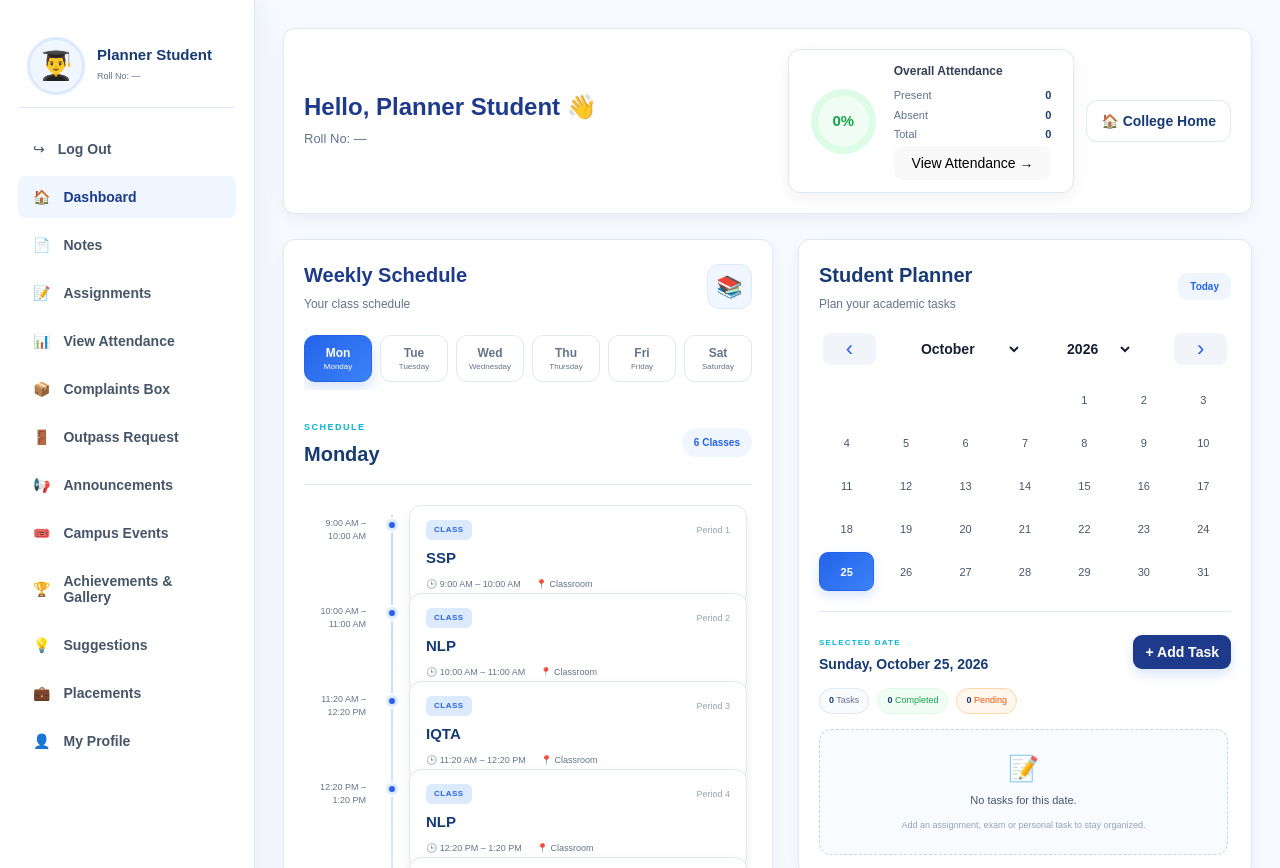
Test: student planner workflow › creates, completes, and deletes tasks using the student task service
Expected: the text "No tasks for this date." is shown, [970,794,1077,806]
Click the button "+ Add Task" at (1182, 652), box [1134,635,1231,669]
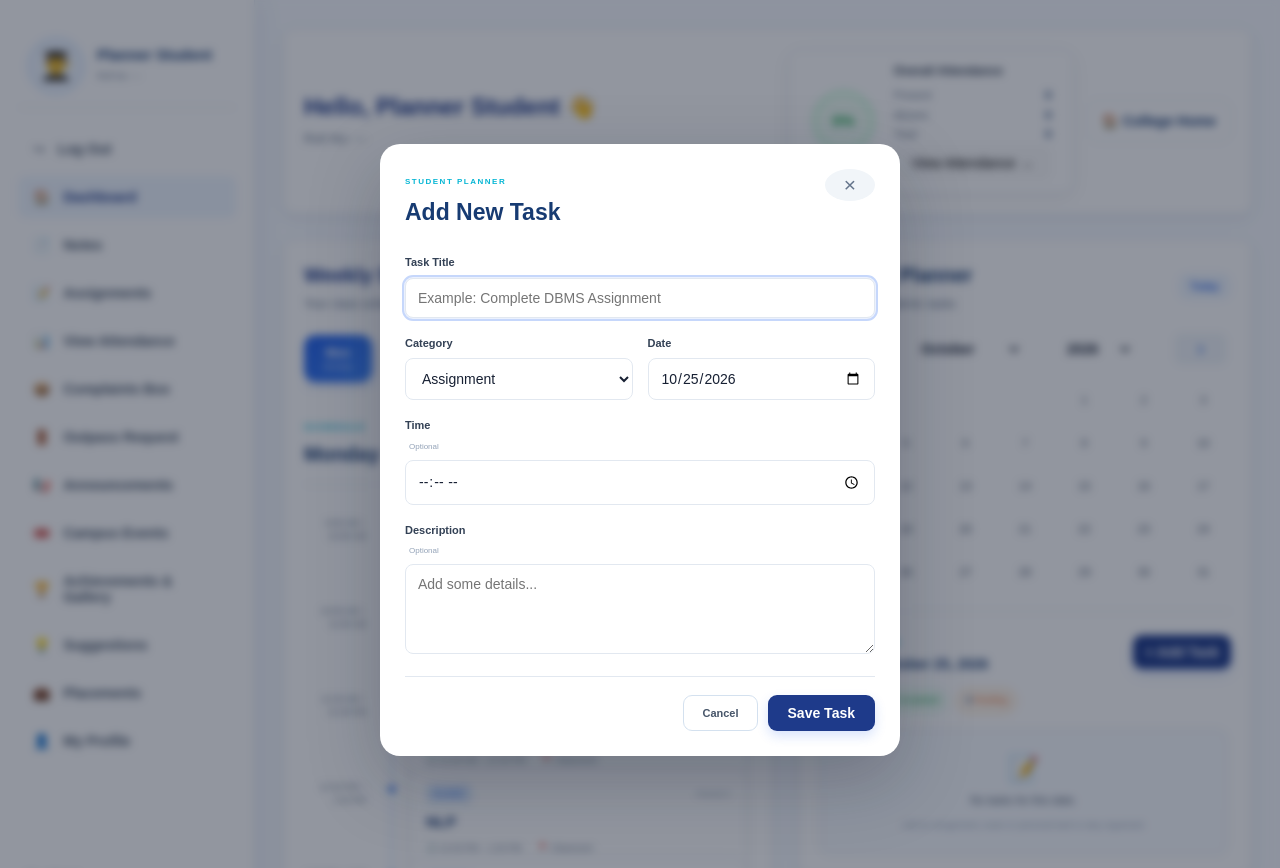
Type "Prepare database assignment" into the field labelled "Task Title" at (640, 298), box [405,278,875,318]
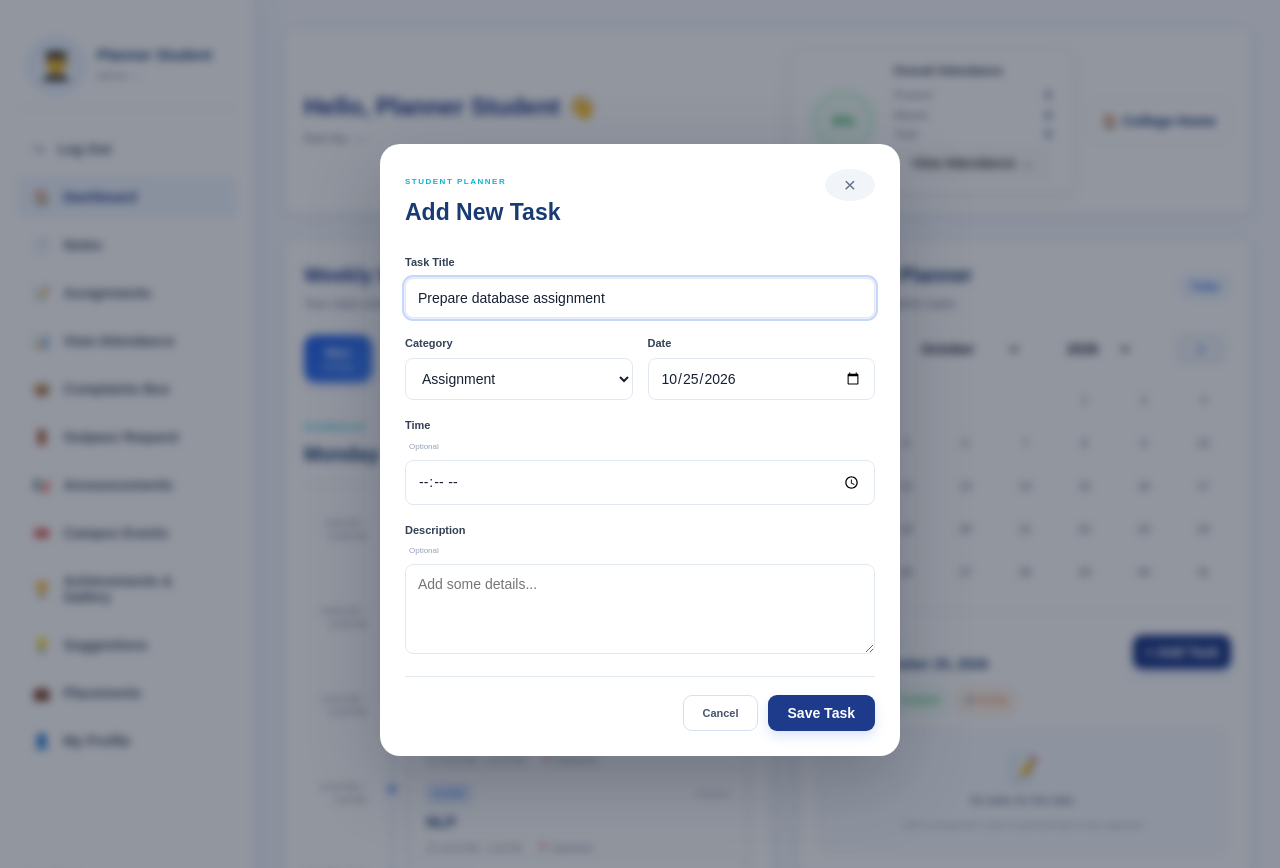
Click the button "Save Task" at (821, 713), box [768,695,875,731]
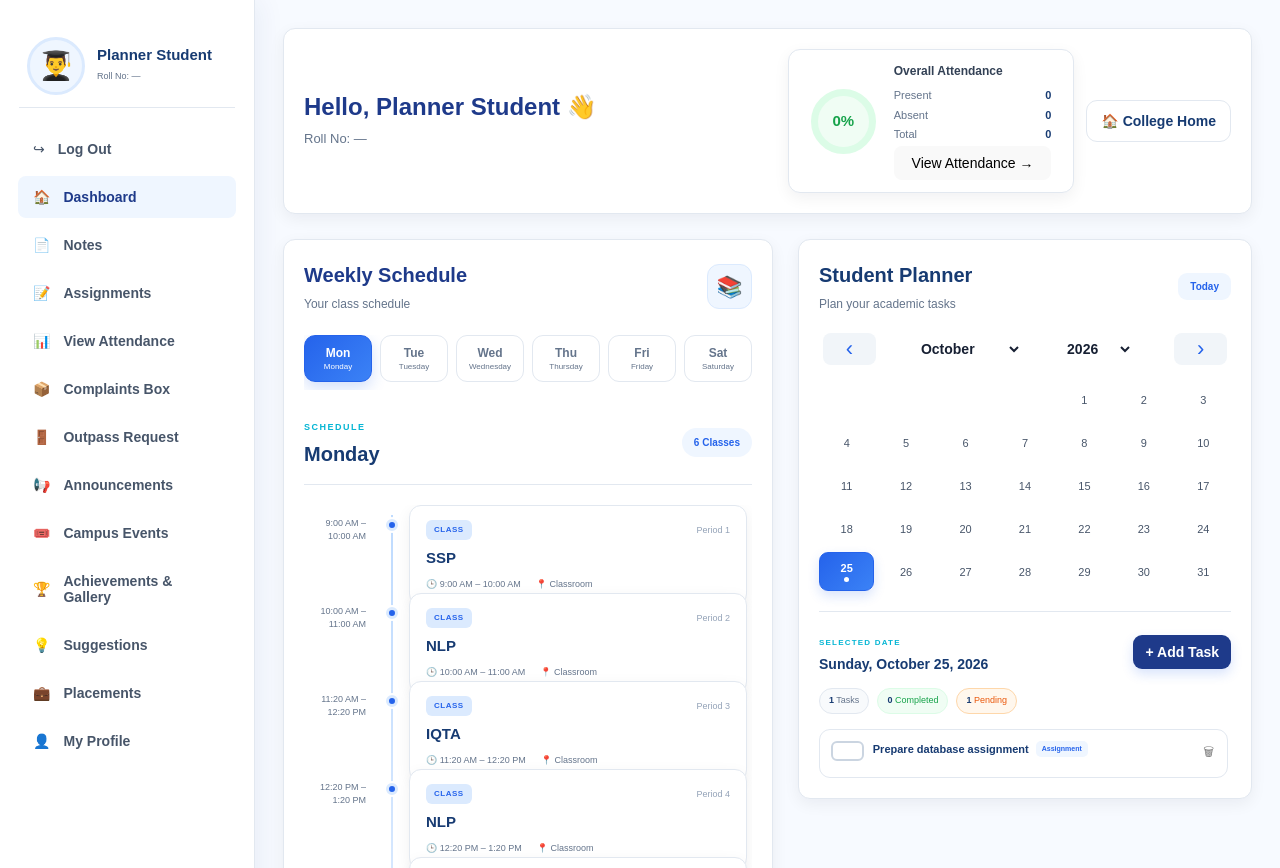
Expected: the heading "Prepare database assignment" is shown, [873,741,1029,758]
Click the button named "Mark task complete" at (847, 751), box [831,741,864,761]
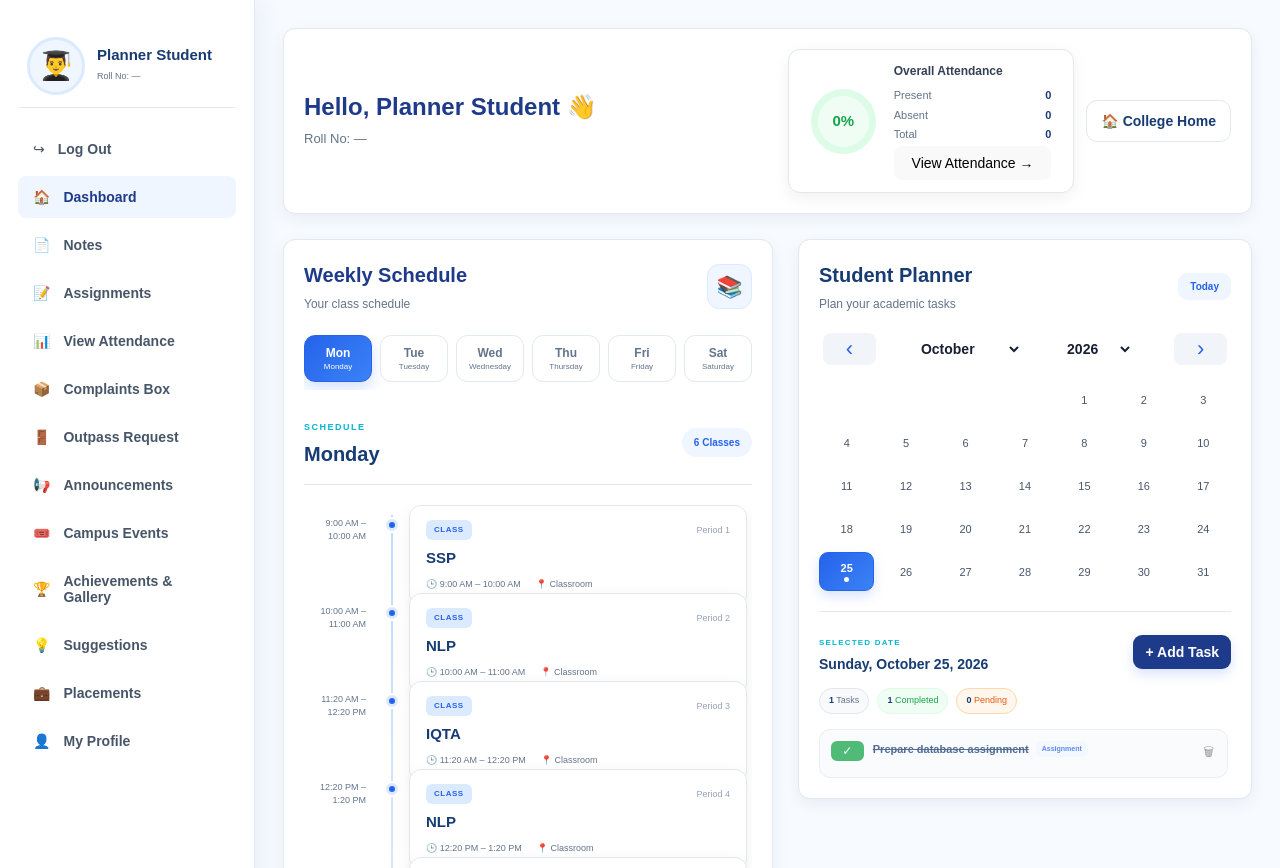
Expected: the button named "Mark task incomplete" is shown, [831,741,864,761]
Click the button named "Delete task" at (1209, 754), box [1201,741,1216,766]
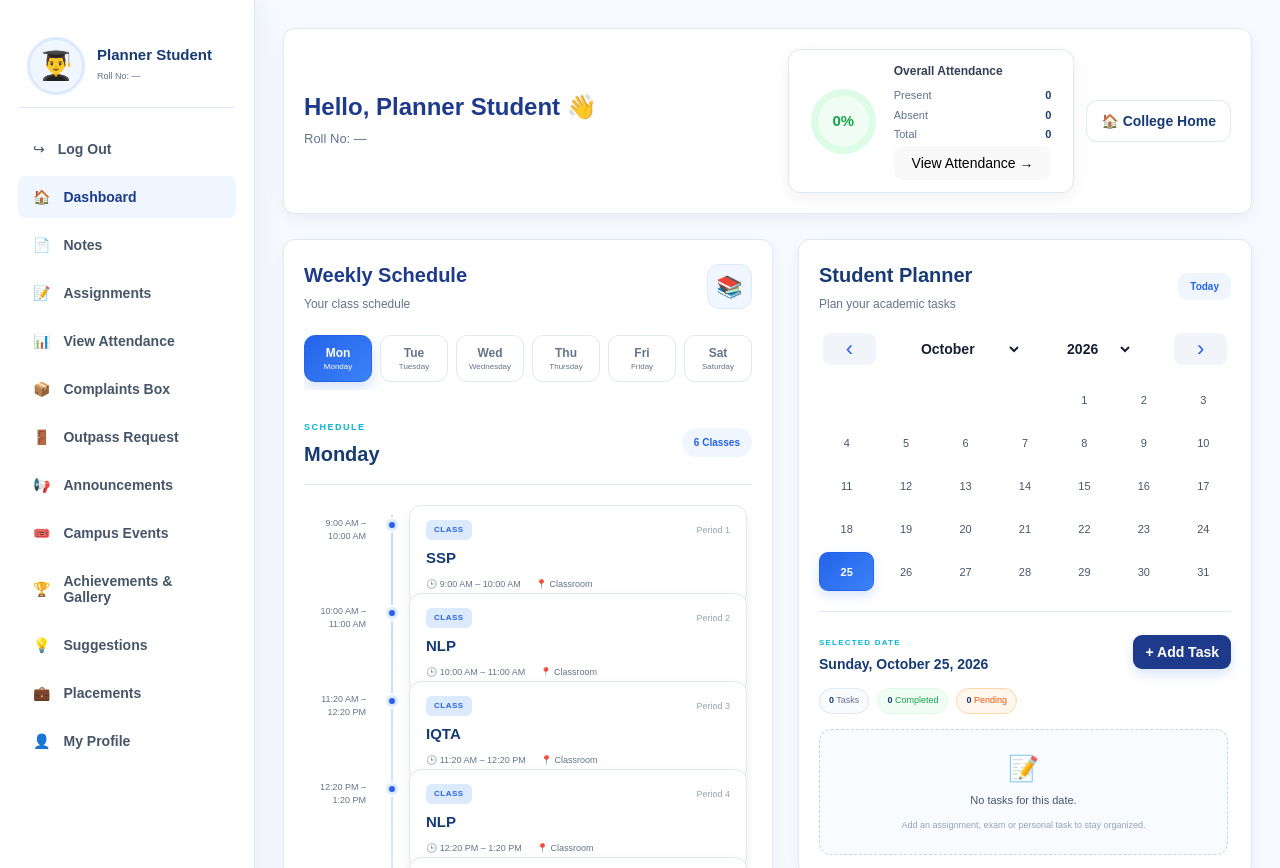
Expected: the text "No tasks for this date." is shown, [970,794,1077,806]
